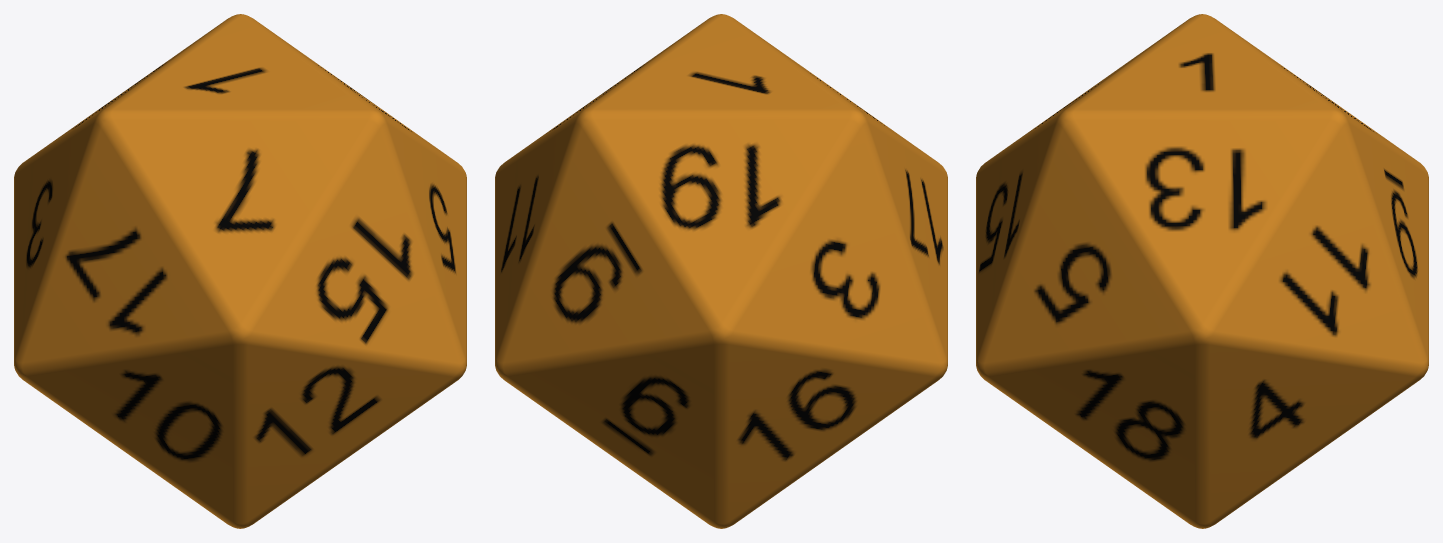
3 renders of one model, left to right at view 1: azimuth 30°, elevation 25°; view 2: azimuth 150°, elevation 25°; view 3: azimuth 270°, elevation 25°, orthographic.
Visible parts, largest first — view 1: Object_2; view 2: Object_2; view 3: Object_2.
Part boxes in pixels (x1,y1,x2,y2): Object_2: [14, 14, 466, 528]; Object_2: [495, 14, 947, 528]; Object_2: [976, 14, 1428, 528].
Size of the model in its own units: 2.73 by 2.25 by 2.39.
1 material, 1 textured.
